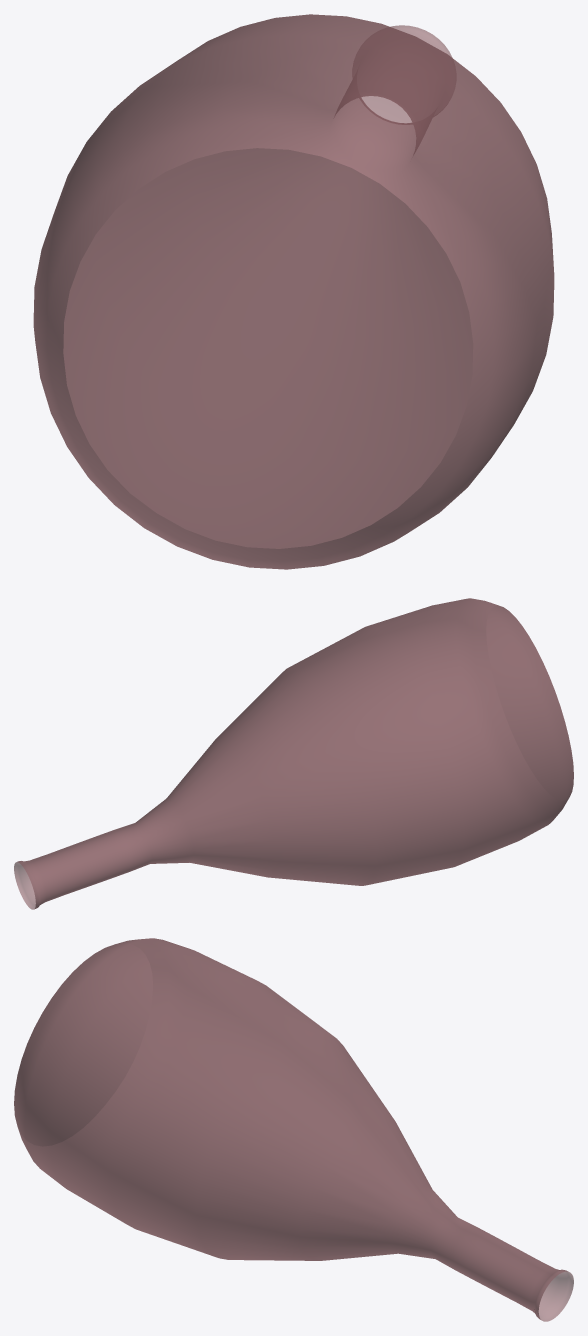
File: glass3.fbx
3 renders of one model, top to bottom at view 1: azimuth 30°, elevation 25°; view 2: azimuth 150°, elevation 25°; view 3: azimuth 270°, elevation 25°, orthographic. The views are drawn at different scales.
Parts seen in each view (by area): view 1: Bottle3; view 2: Bottle3; view 3: Bottle3.
Boxes of the visible parts, x1,y1,x2,y2 form: Bottle3: (33,14,554,569); Bottle3: (14,598,573,909); Bottle3: (14,938,573,1321).
Bounding box in the file's own units: 13.88 × 8.53 × 16.49.
